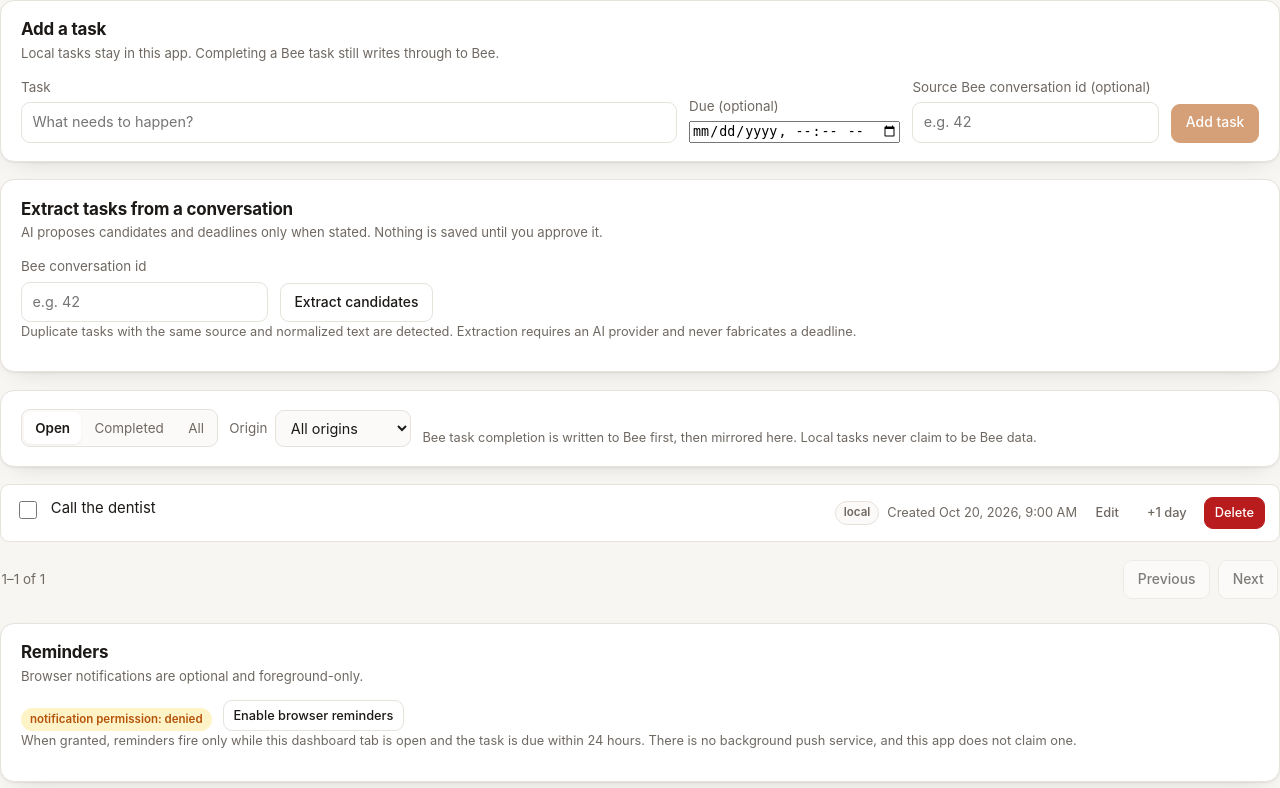
Scenario: Tasks page › keeps the row unchanged and reports a failed write
Click the checkbox.
click(28, 510)  # box [19, 501, 37, 519]
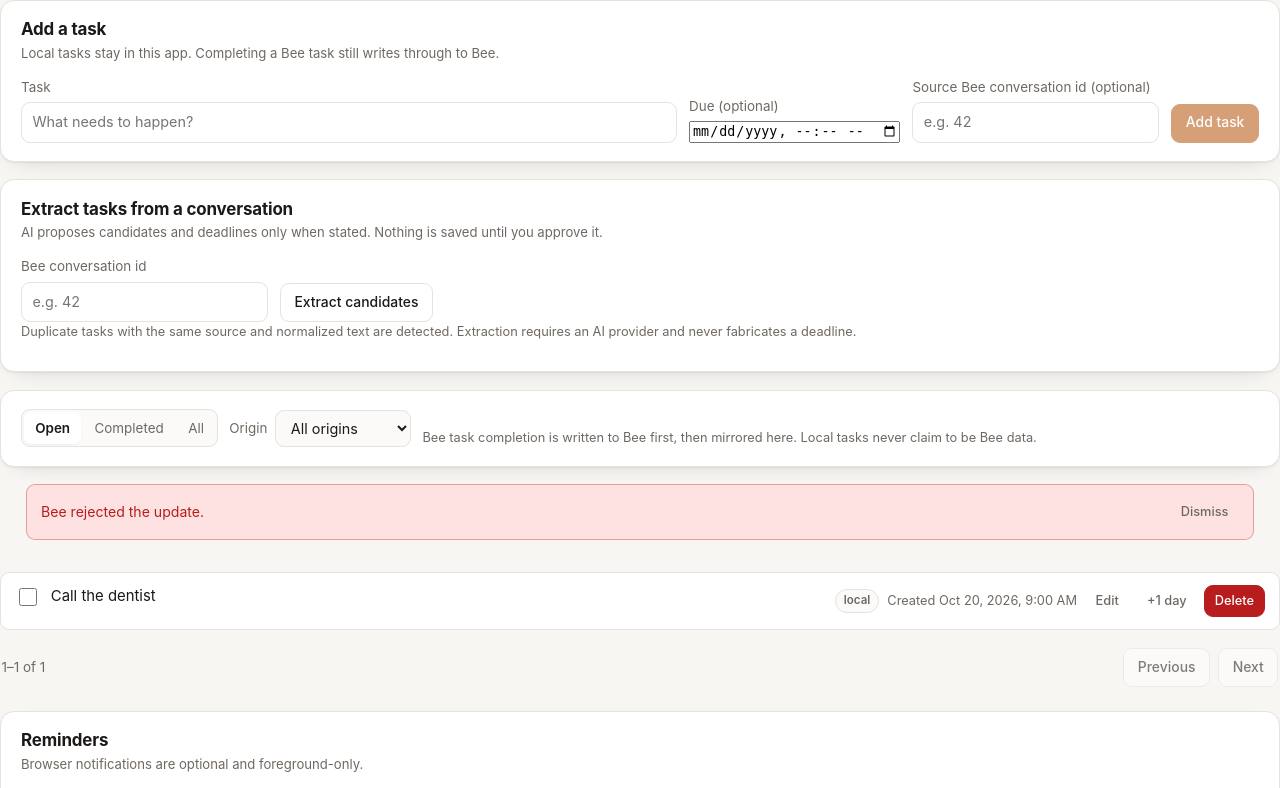
Expected: the checkbox is not checked, [19, 588, 37, 606]
Expected: the text "Bee rejected the update." is shown, [41, 503, 204, 520]
